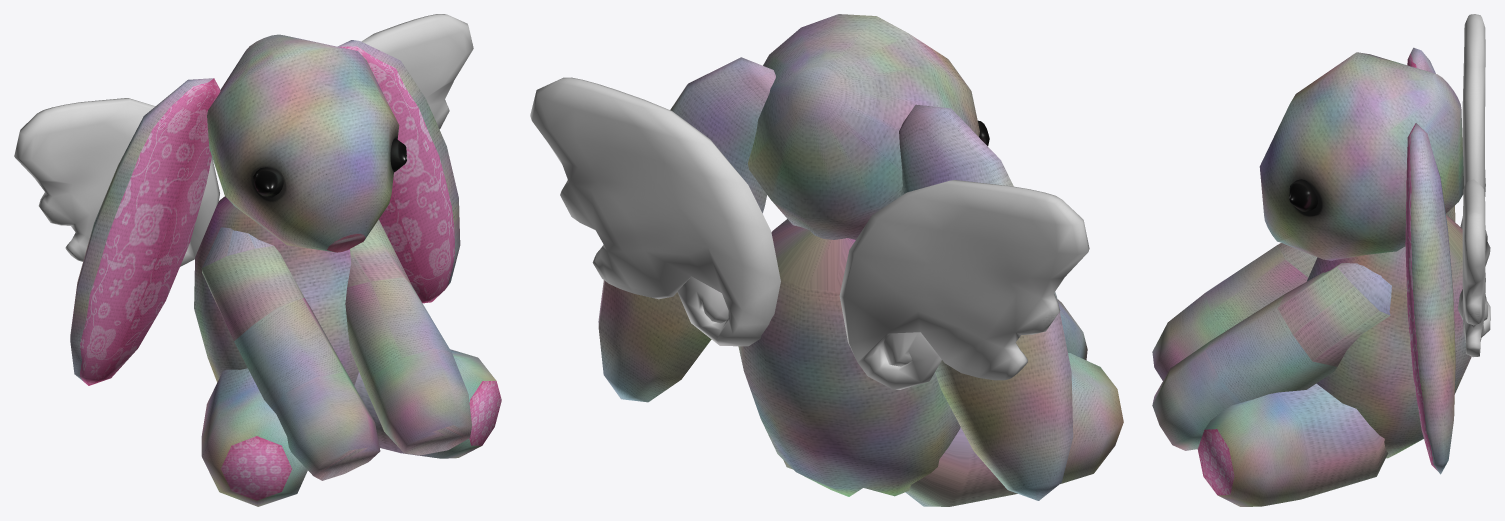
Rendered from bunnyunity.fbx.
The picture shows the model from 3 angles, left to right: view 1: azimuth 30°, elevation 25°; view 2: azimuth 150°, elevation 25°; view 3: azimuth 270°, elevation 25°; orthographic projection. The views are drawn at different scales.
Parts seen in each view (by area): view 1: Bunny; view 2: Bunny; view 3: Bunny.
Boxes of the visible parts, <box> form: Bunny: <box>14,14,501,506</box>; Bunny: <box>530,14,1123,506</box>; Bunny: <box>1152,14,1490,506</box>.
Bounding box in the file's own units: 1154 × 945 × 721.
Materials: 1 (1 with a texture image).
